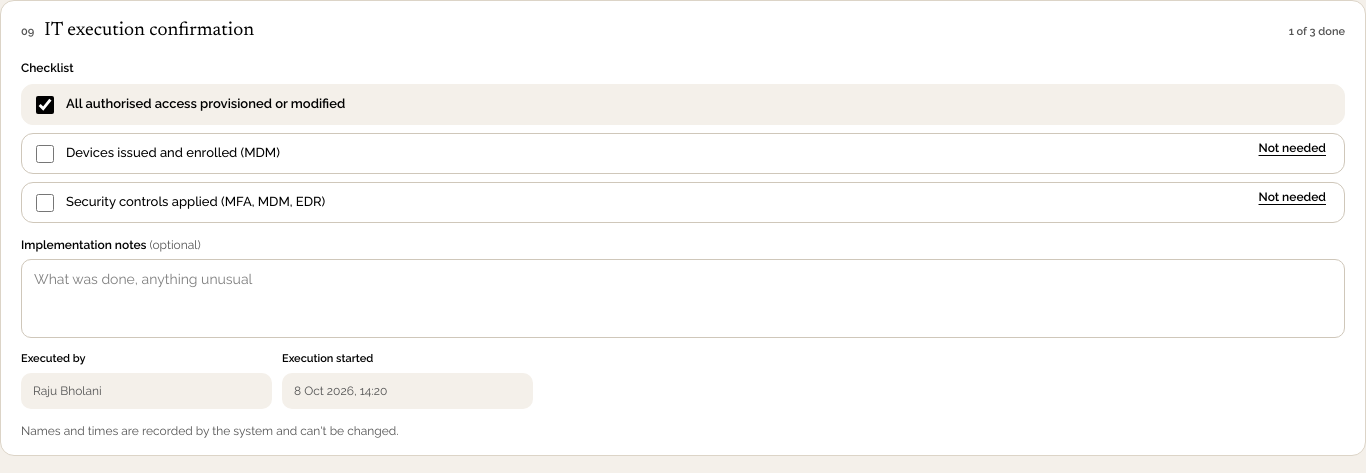
Test: ExecutionSection › ticking an item saves the whole checklist
Click the checkbox labelled "Devices issued and enrolled (MDM)": (45, 154) left=36, top=144, right=54, bottom=162
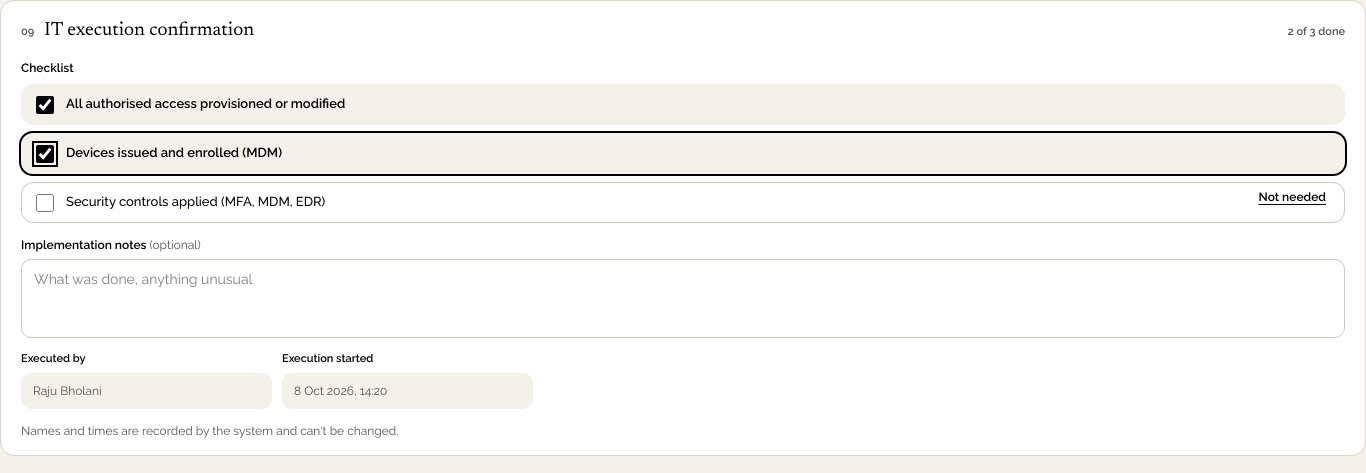
Now the text "2 of 3 done" is shown, box left=1288, top=25, right=1345, bottom=40
